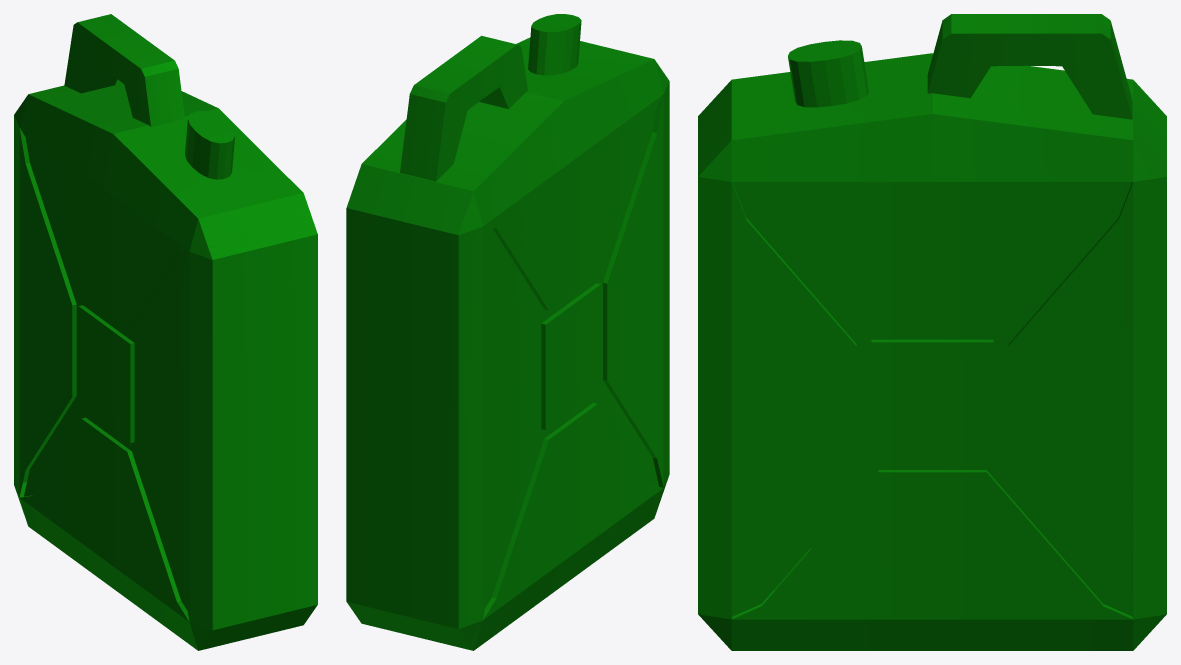
The model's file is SM_Int_Gasoline.fbx.
The picture shows the model from 3 angles, left to right: view 1: azimuth 30°, elevation 25°; view 2: azimuth 150°, elevation 25°; view 3: azimuth 270°, elevation 25°; orthographic projection. The views are drawn at different scales.
Visible parts, largest first — view 1: SM_Int_Gasoline; view 2: SM_Int_Gasoline; view 3: SM_Int_Gasoline.
Part boxes in pixels (left/top/right/bottom): SM_Int_Gasoline: left=14, top=14, right=317, bottom=650; SM_Int_Gasoline: left=346, top=14, right=669, bottom=650; SM_Int_Gasoline: left=698, top=14, right=1166, bottom=650.
Size of the model in its own units: 0.1295 by 0.5084 by 0.3619.
